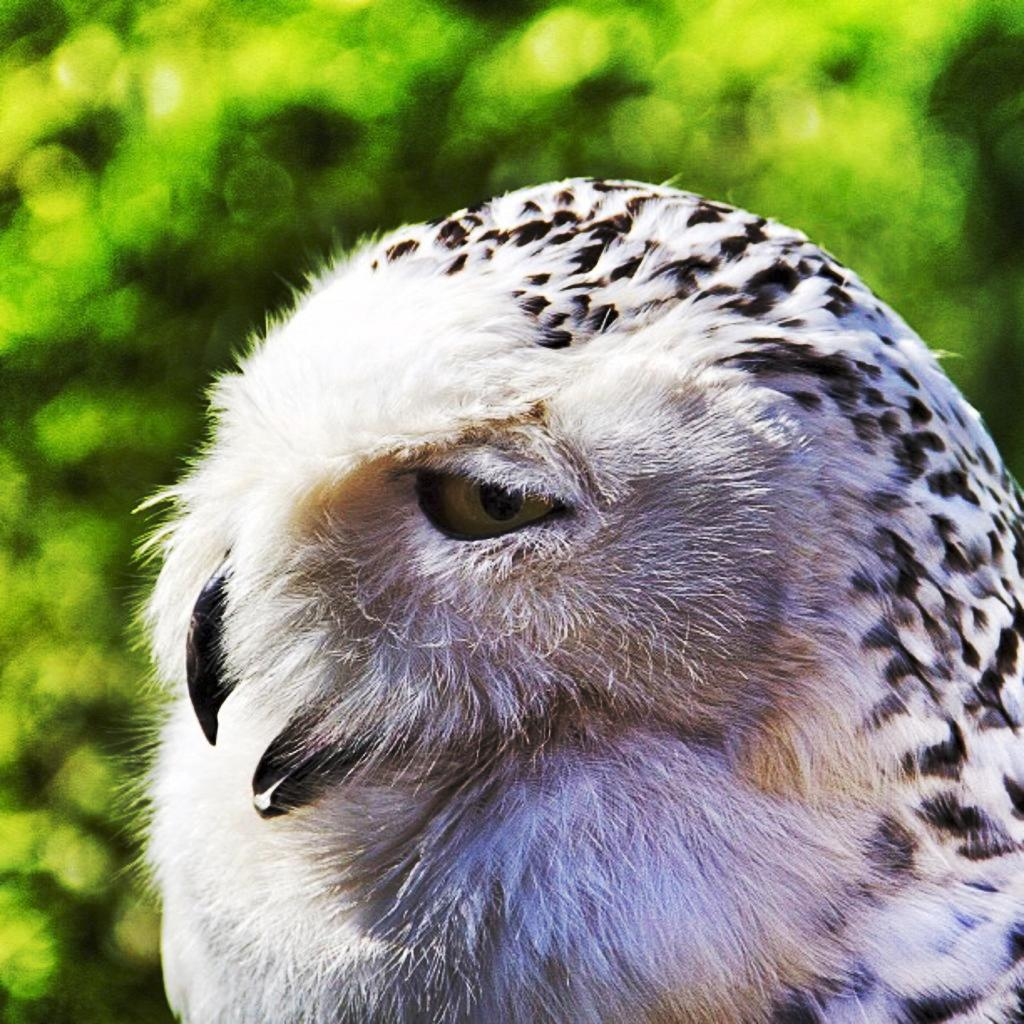Owl: (120, 178, 1022, 1022)
